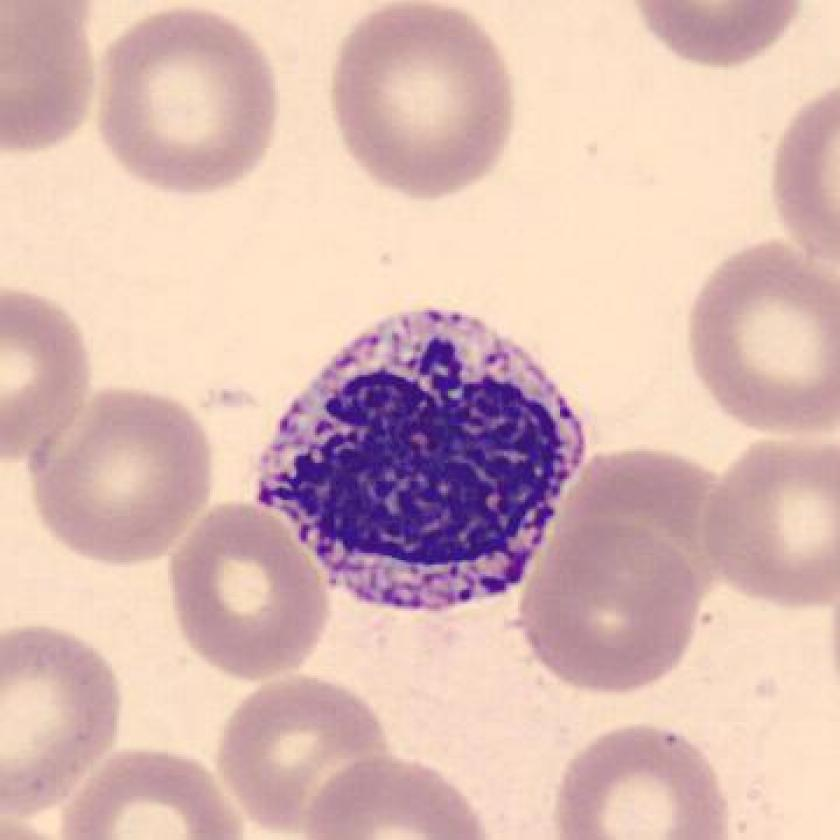basophil: (258, 302, 587, 612)
